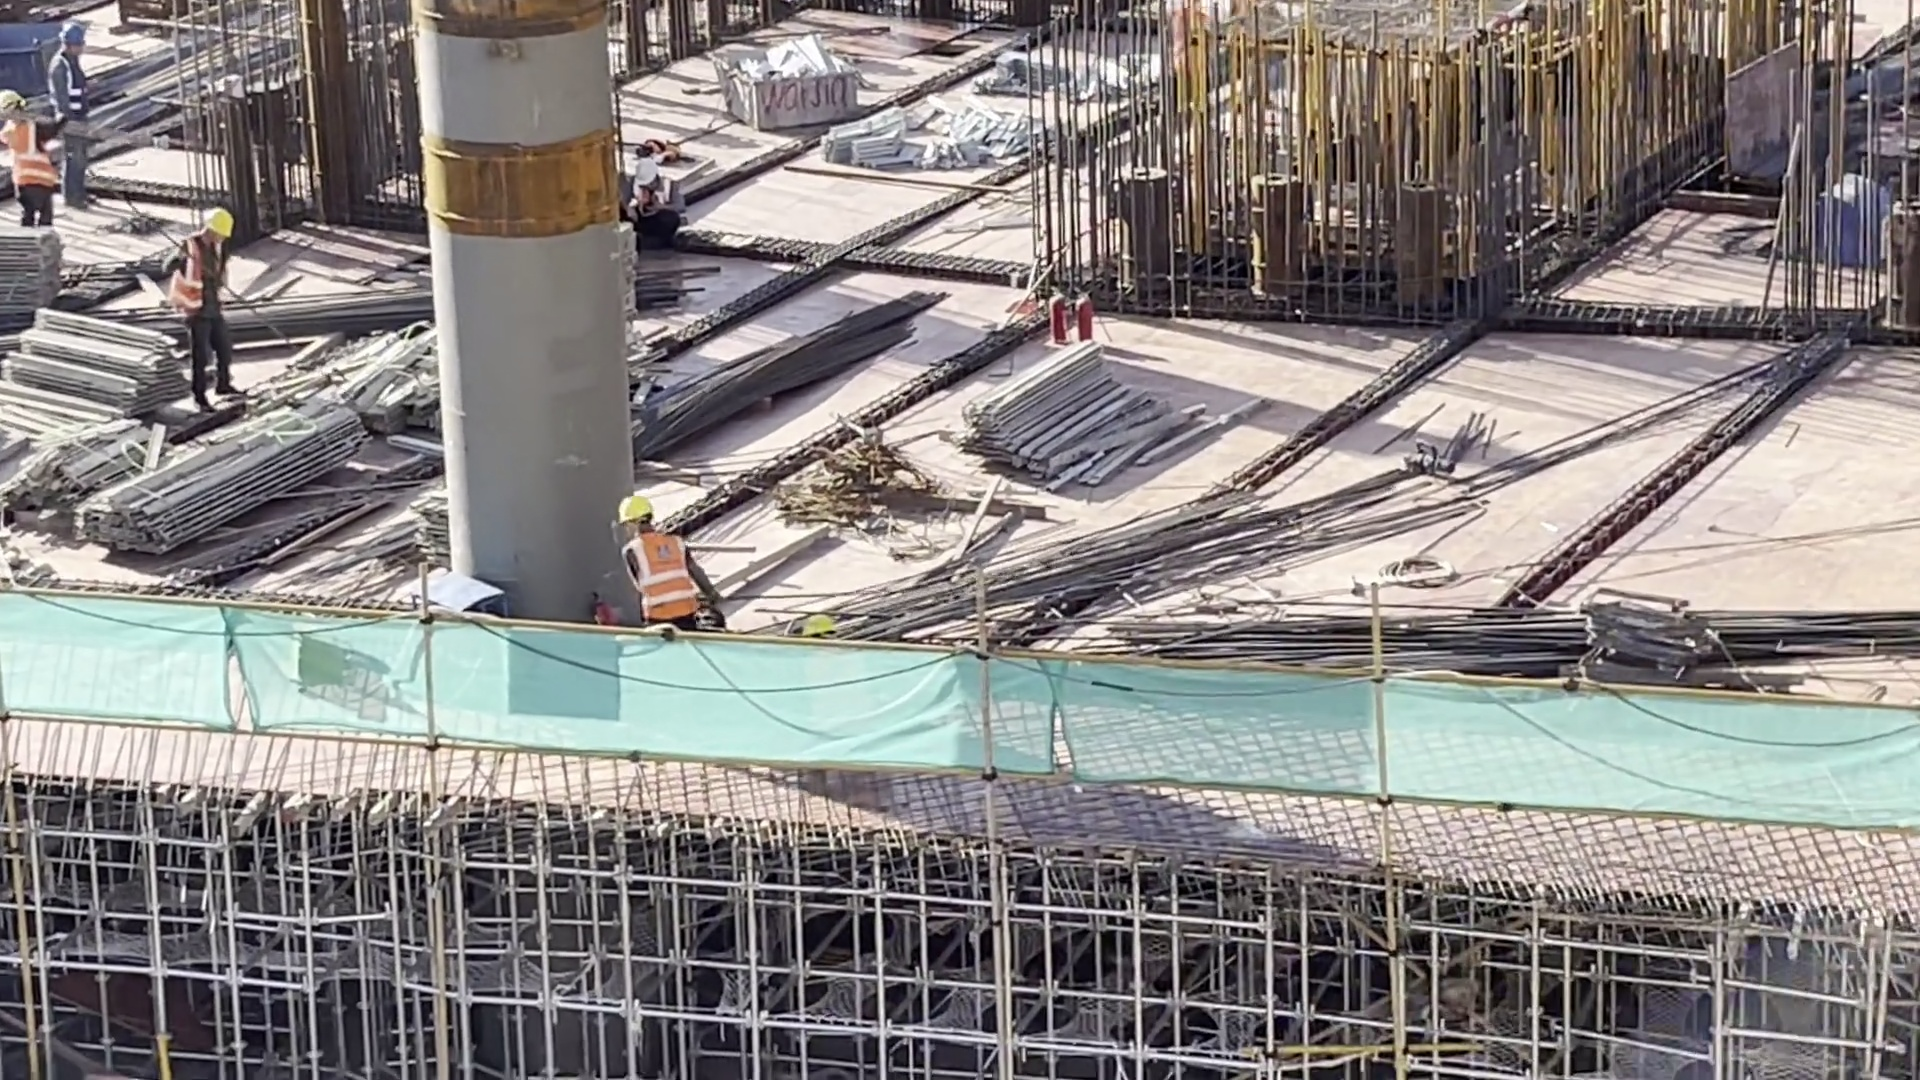helmet: (618, 504, 654, 530), (207, 209, 229, 241), (62, 22, 85, 46)
hopper: (715, 34, 867, 132)
person: (148, 194, 244, 411), (599, 483, 719, 652), (23, 23, 106, 201), (1, 97, 58, 229), (626, 146, 695, 243), (625, 146, 652, 189)
vest: (623, 534, 700, 619), (167, 232, 232, 313), (51, 52, 93, 127), (1, 129, 52, 187)
wood: (103, 357, 364, 560), (963, 339, 1160, 497), (4, 290, 186, 439)
